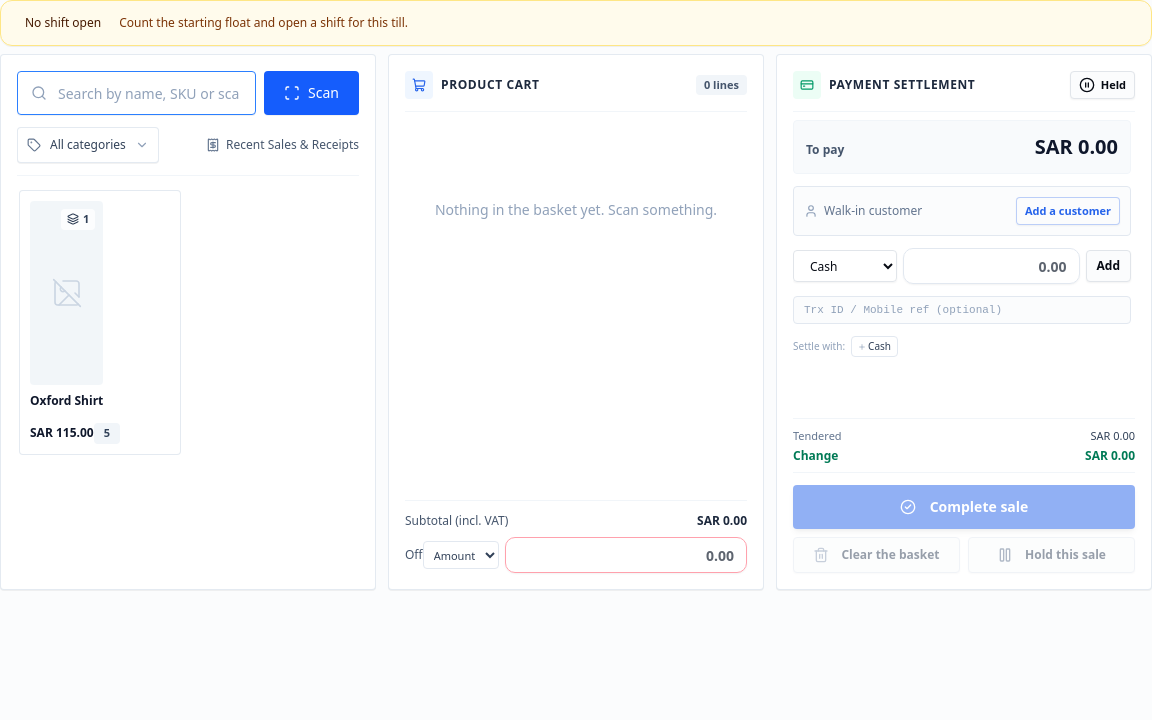
Test: the basket › asks the server again when a quantity changes, and never adds up money itself
Type "oxford" into the field named "Scan or search". click: (137, 93)
box: [17,71,256,115]
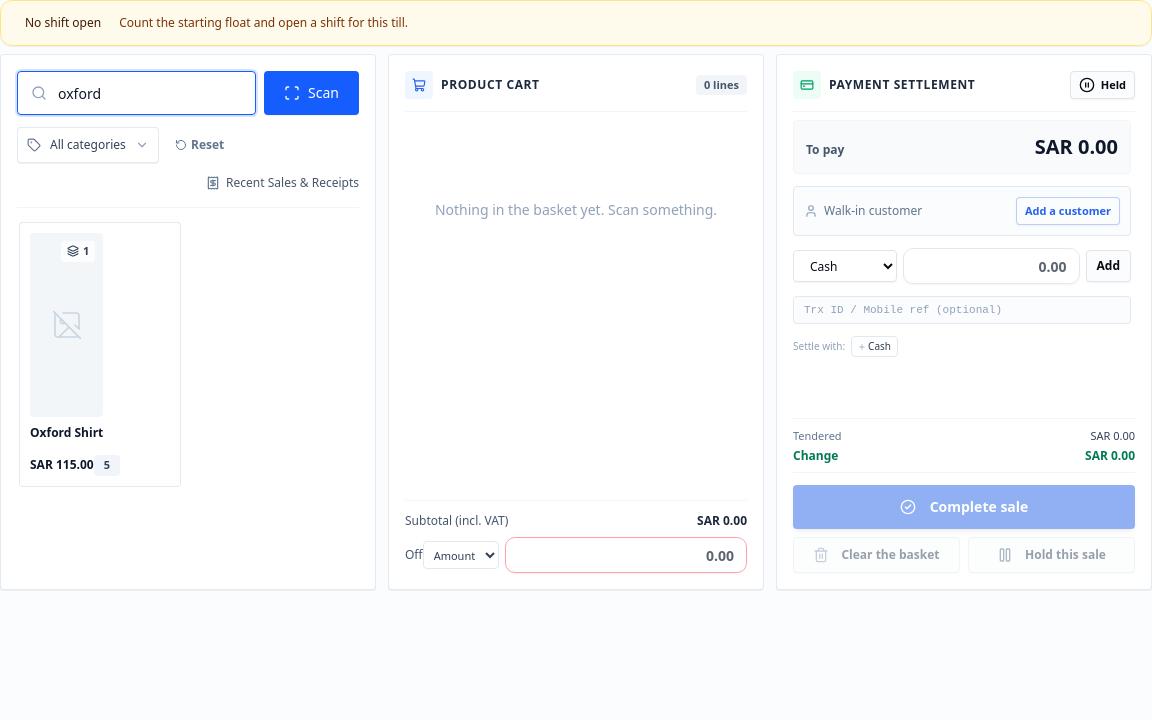
Click the button "1 Oxford Shirt SAR 115.00 5". click: (100, 354)
box: [19,222,181,486]
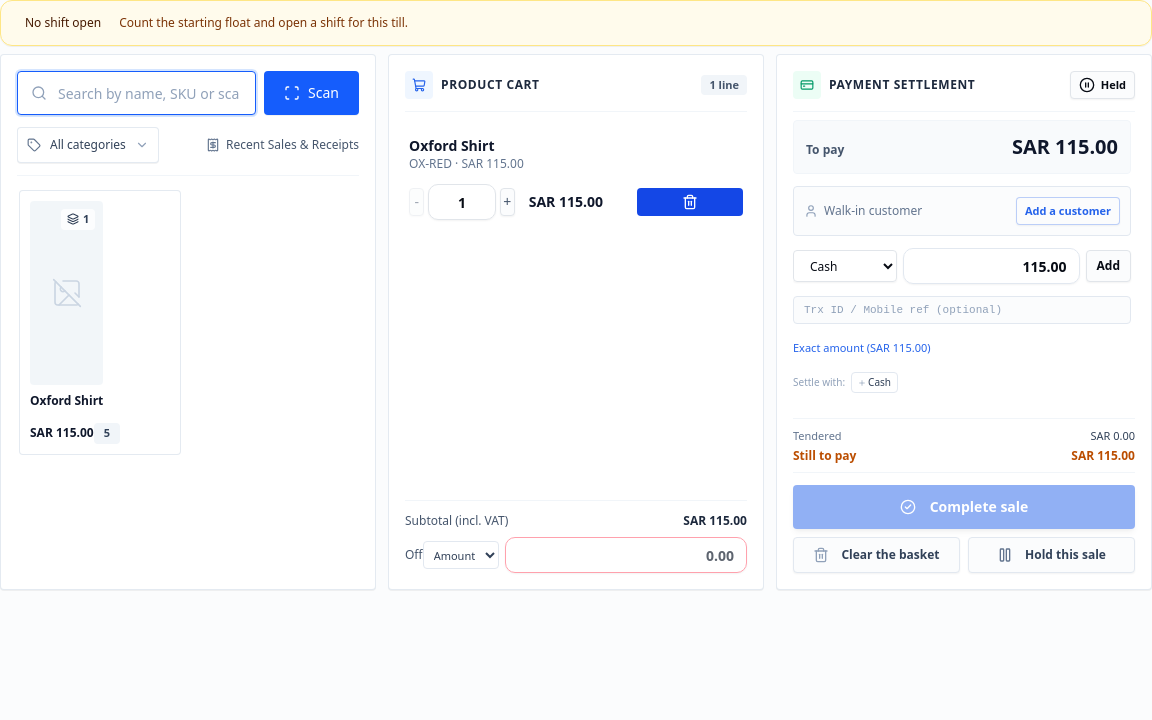
Replace the text in the field named "Quantity of Oxford Shirt" with "3". click: (462, 202)
box: [428,184,496,220]
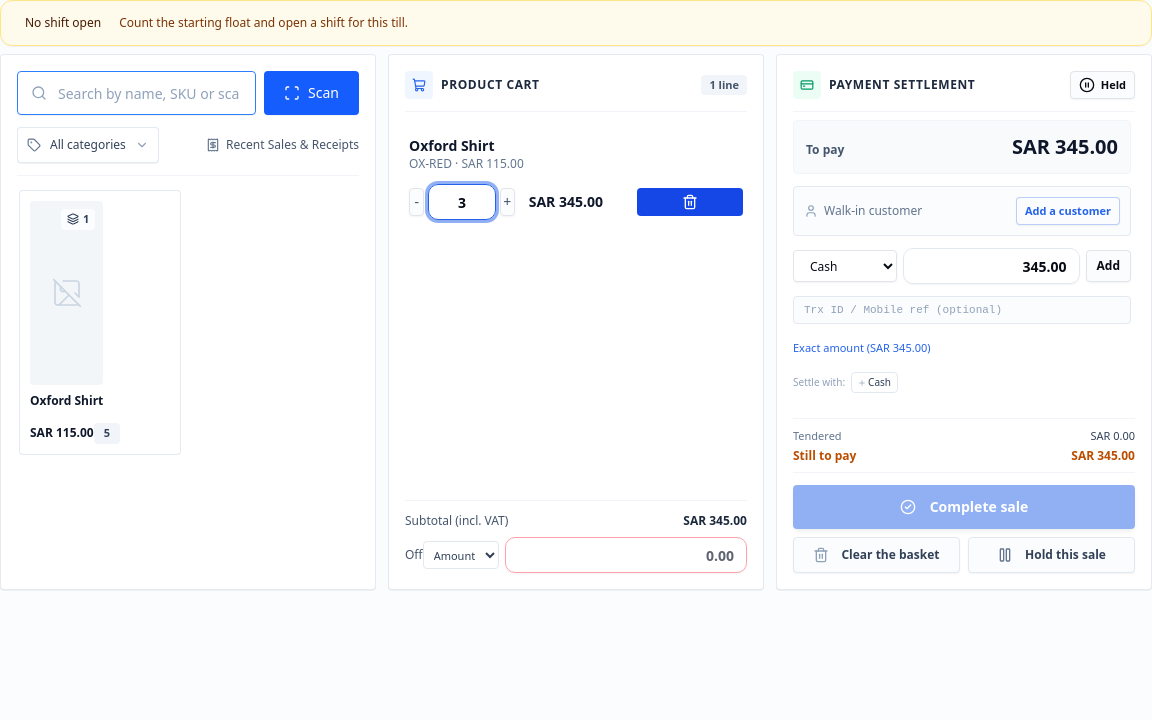
Result: the text named "To pay" reads "SAR 345.00" at [1012,133,1118,160]
